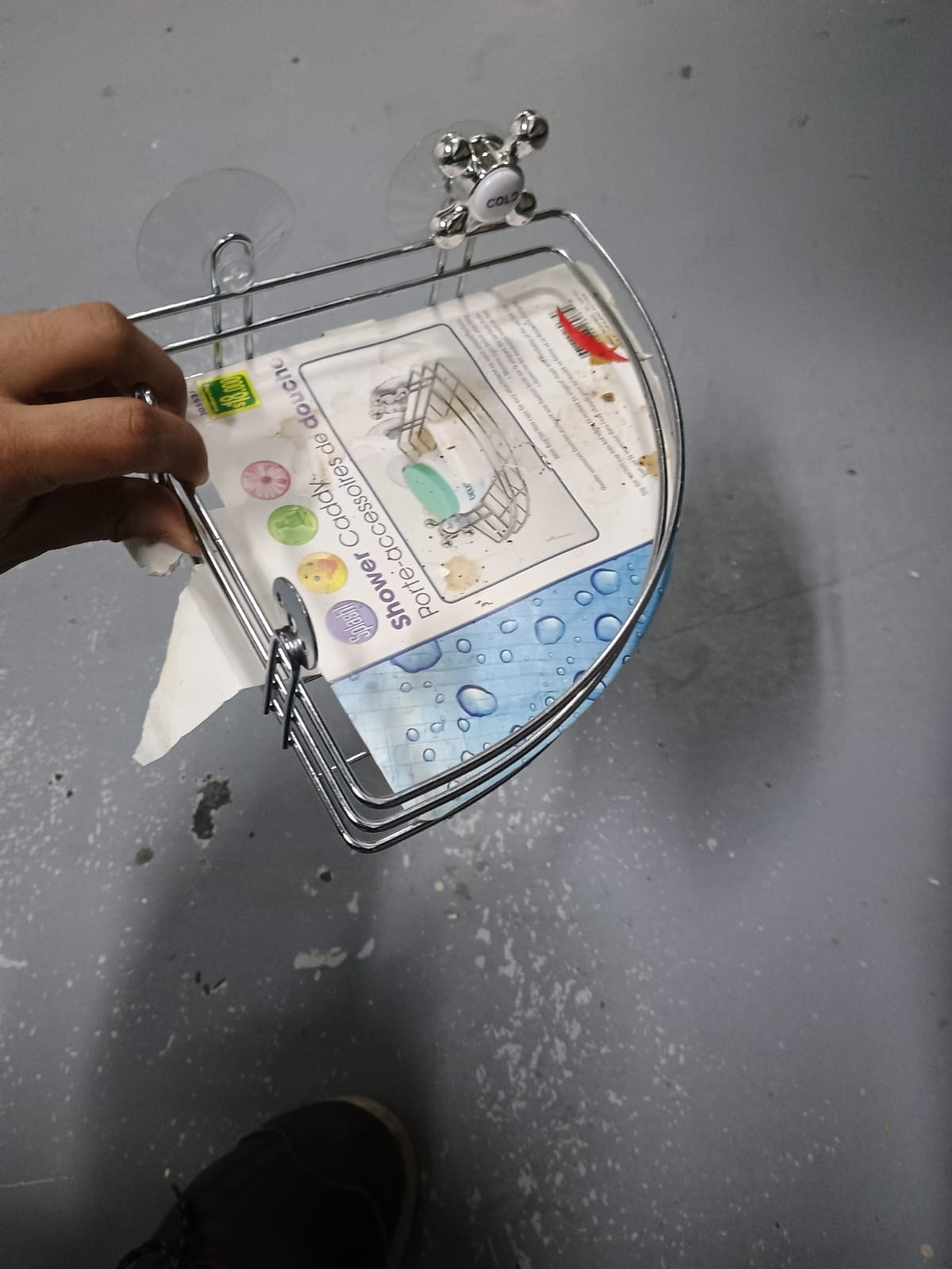Ordinario: (94, 106, 687, 860)
